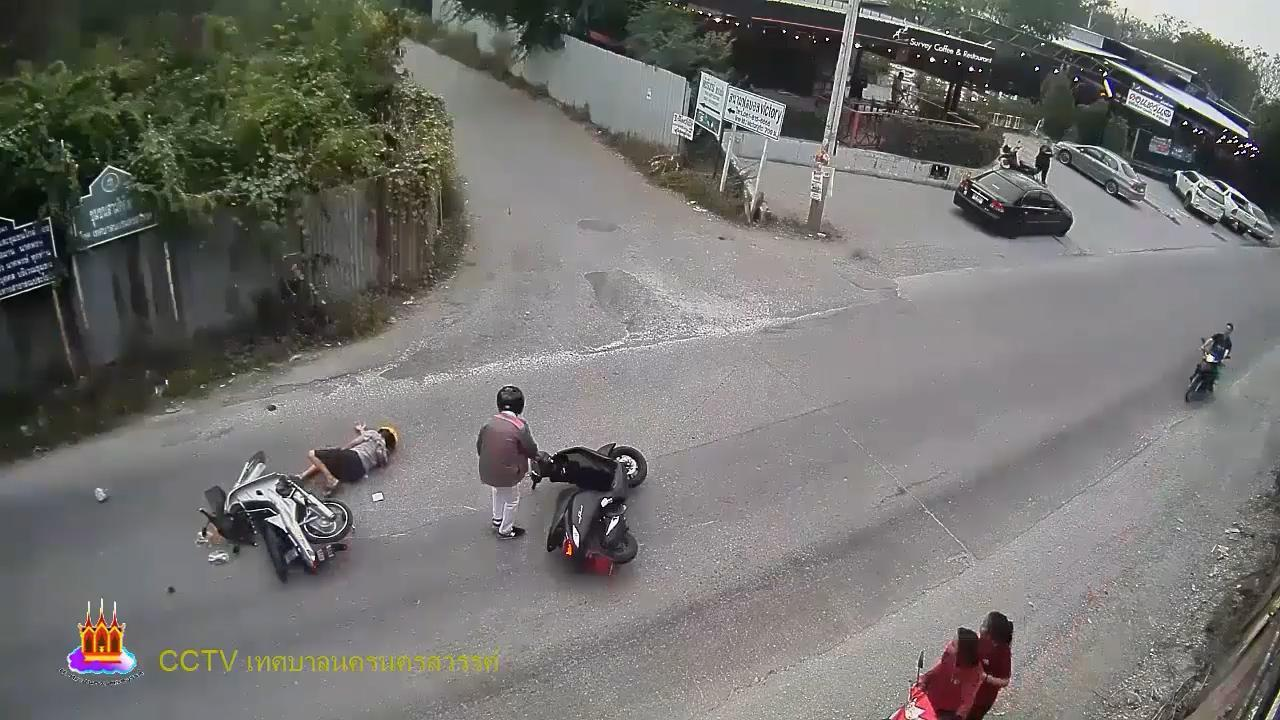accident: (290, 420, 399, 498)
